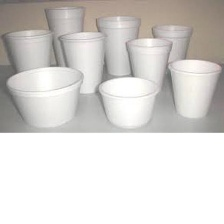paper_cup: (1, 63, 87, 129), (95, 72, 163, 131), (164, 55, 223, 121), (57, 28, 110, 96), (92, 12, 145, 77), (121, 33, 175, 94), (42, 3, 88, 69), (0, 25, 55, 77), (149, 21, 195, 72)
